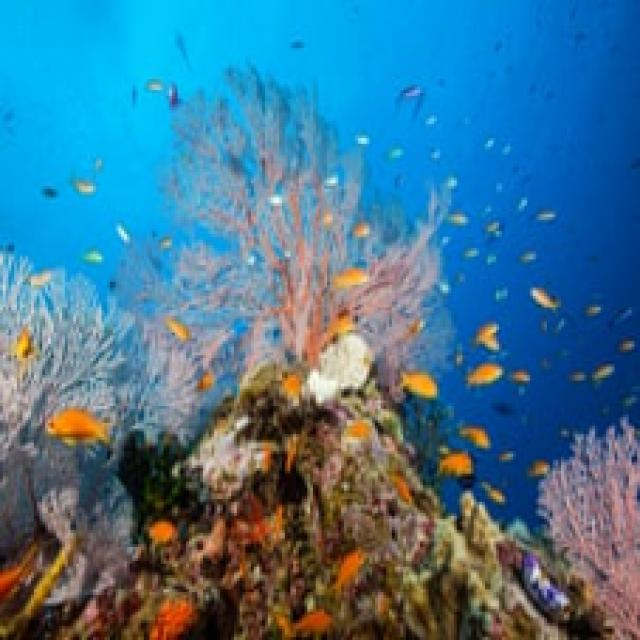Healthy: (165, 69, 438, 382), (1, 255, 190, 571), (540, 421, 638, 638)
